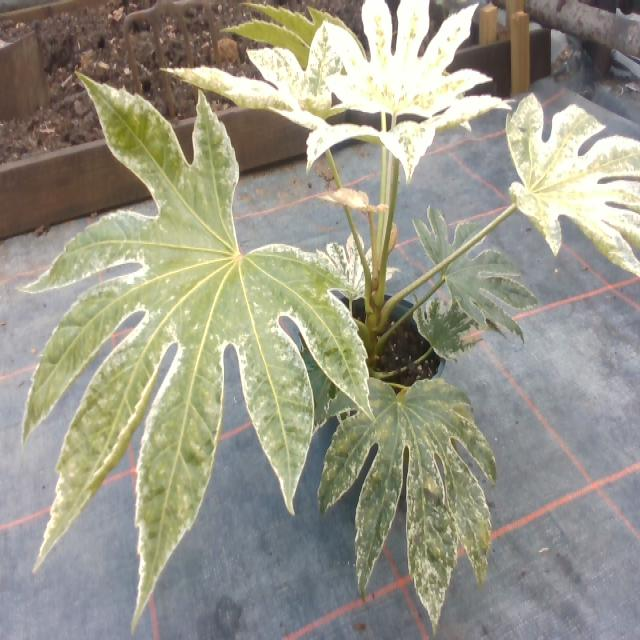Fatsia-japonica: (12, 34, 373, 605), (306, 348, 514, 618), (507, 83, 640, 266), (317, 0, 483, 120), (307, 92, 514, 176), (426, 202, 526, 332), (221, 3, 378, 80), (238, 32, 353, 105), (158, 61, 290, 120), (311, 228, 386, 299), (407, 288, 475, 359)
